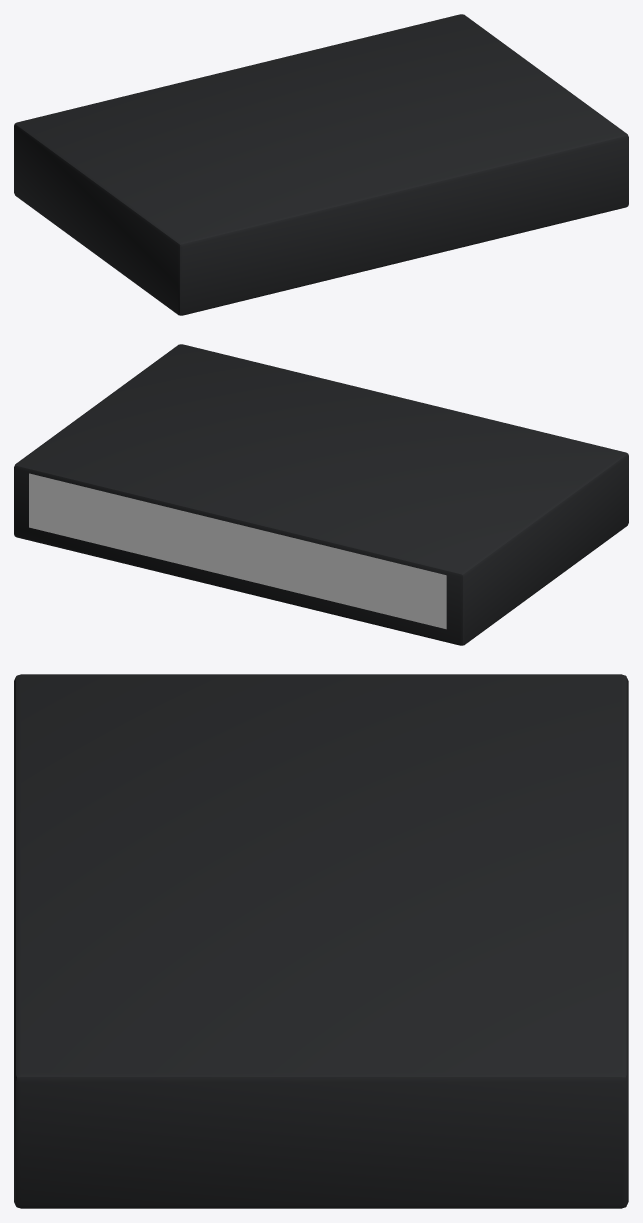
Rendered from tape_case_closed.glb.
3 views of the same model, one above another, from view 1: azimuth 30°, elevation 25°; view 2: azimuth 150°, elevation 25°; view 3: azimuth 270°, elevation 25° (orthographic). The views are drawn at different scales.
Visible parts, largest first — view 1: case_body; view 2: case_body, jcard_spine; view 3: case_body.
Part boxes in pixels (box(x1,y1,x2,y2)): case_body: box(14, 14, 628, 315); case_body: box(14, 344, 628, 645); jcard_spine: box(29, 473, 446, 629); case_body: box(14, 674, 628, 1208).
Bounding box in the file's own units: 0.109 × 0.017 × 0.07.
2 materials, 1 textured.
